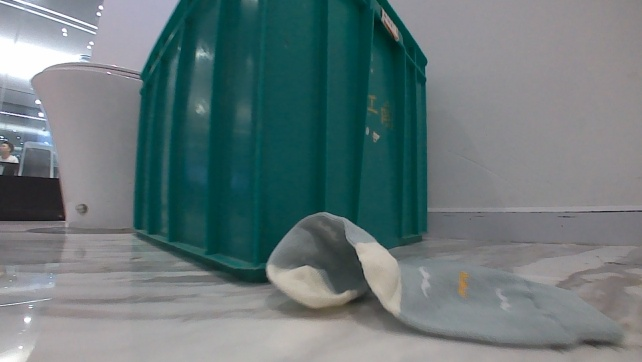socks: (257, 201, 625, 352)
toilet: (27, 56, 139, 232)
